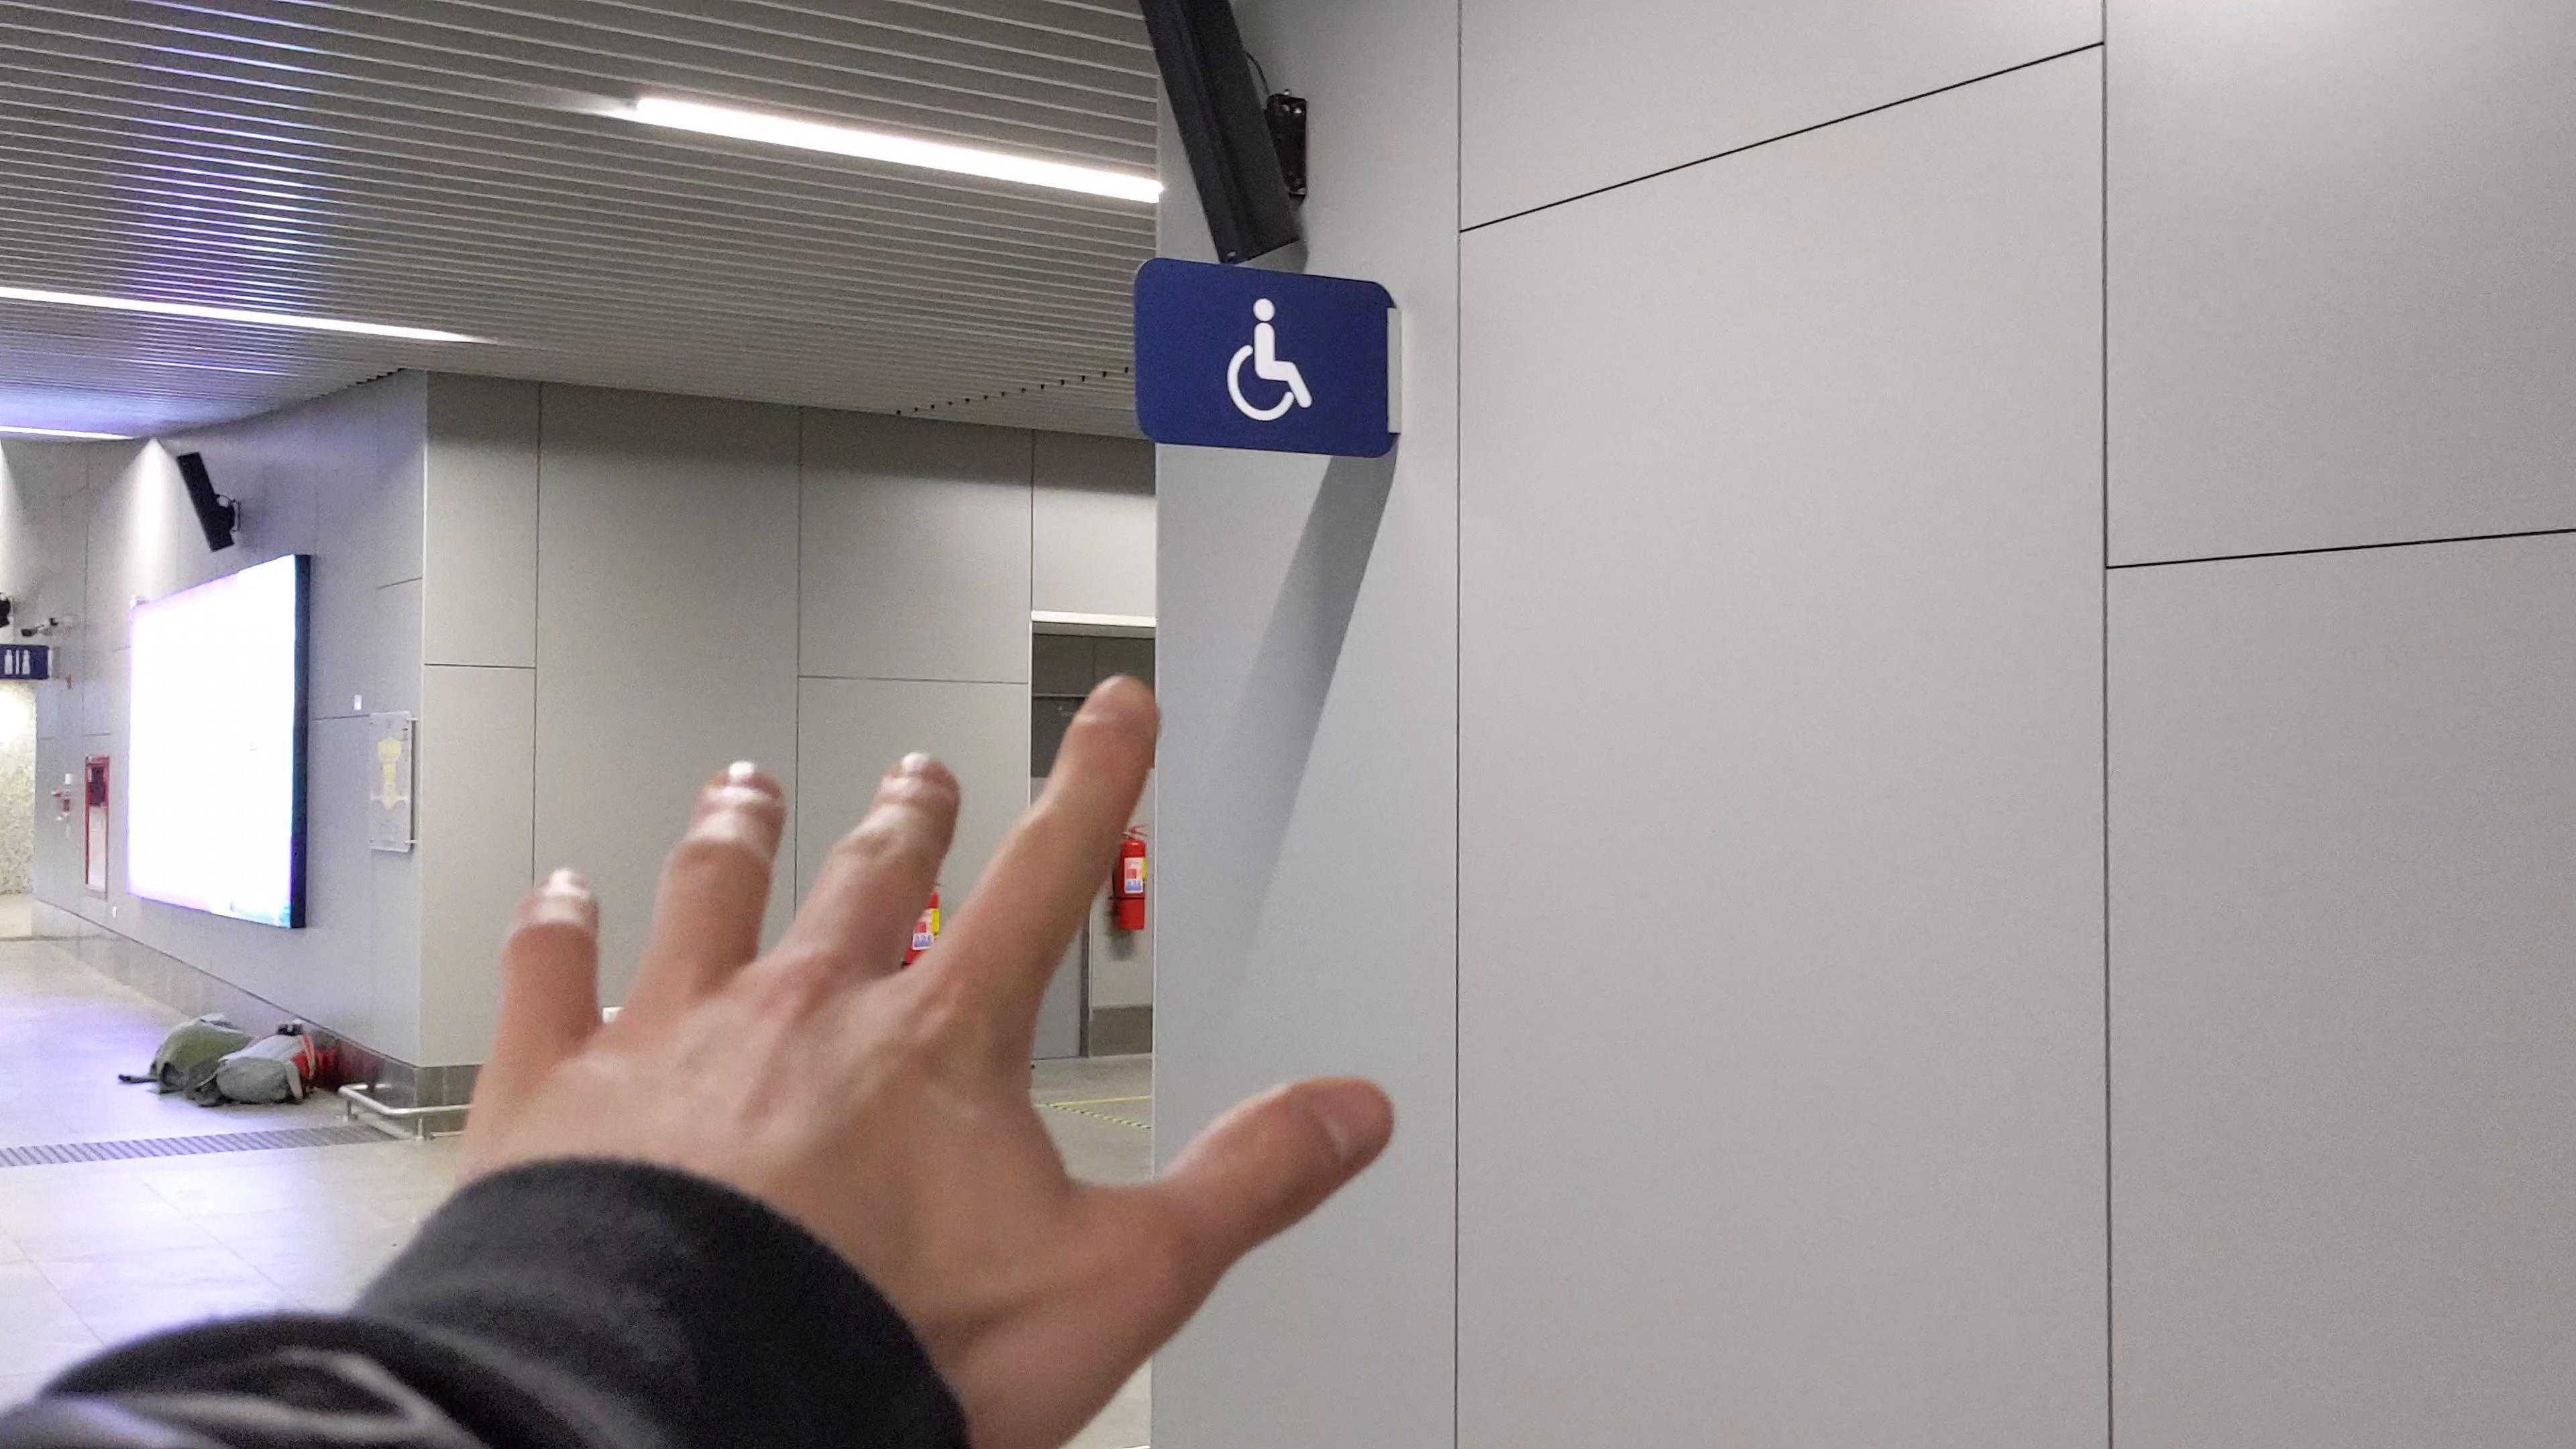handicapped symbol: (1224, 294, 1320, 426)
